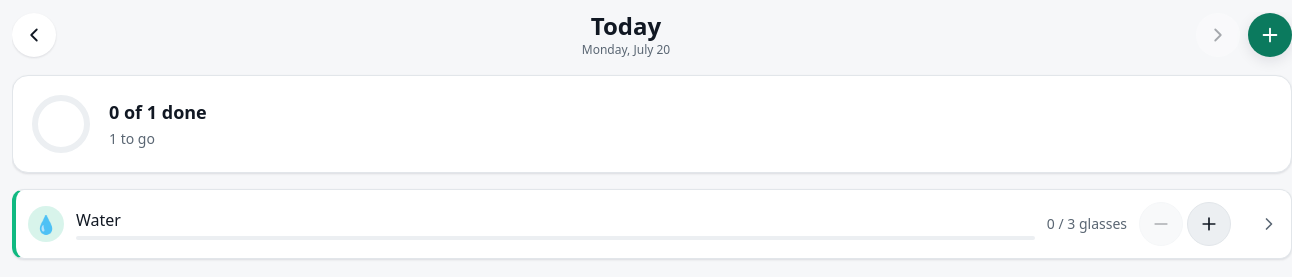
countable habits › stepper increments past the target and decrements, persisted to Dexie
Expected: the text "0 / 3 glasses" is shown, [1047, 213, 1127, 234]
Click the button named "increase water".
click(1209, 224)  # box [1187, 202, 1231, 246]
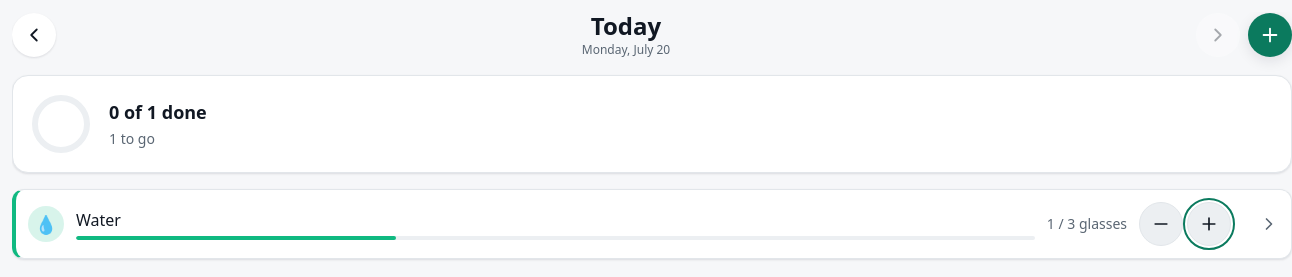
Click the button named "increase water".
click(1209, 224)  # box [1187, 202, 1231, 246]
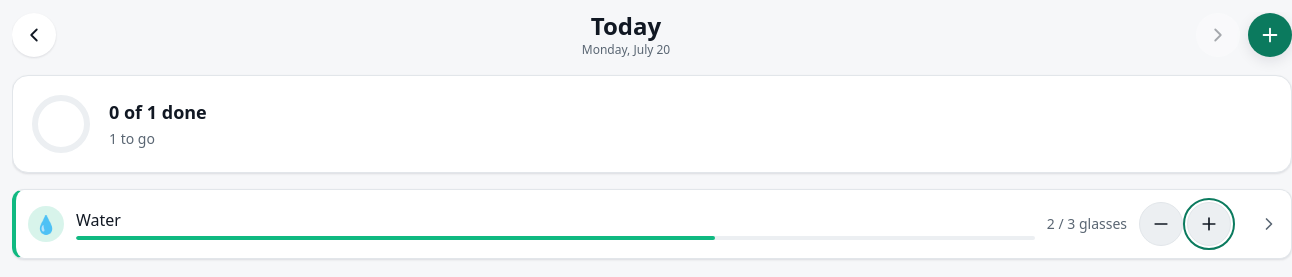
Click the button named "increase water".
click(1209, 224)  # box [1187, 202, 1231, 246]
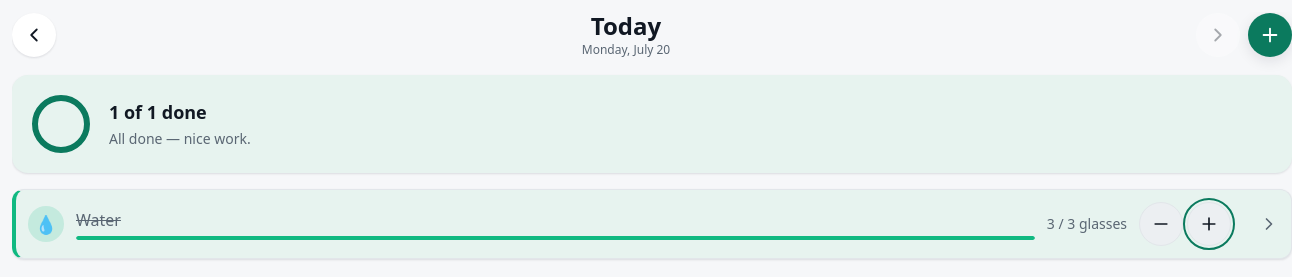
Click the button named "increase water".
click(1209, 224)  # box [1187, 202, 1231, 246]
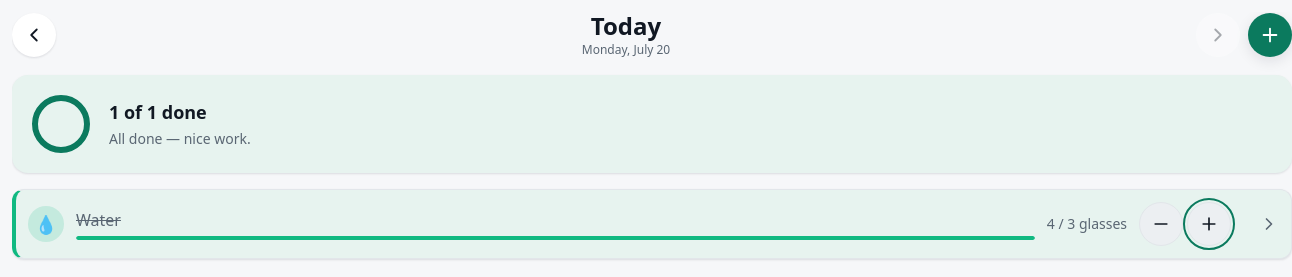
Now the text "4 / 3 glasses" is shown, box [1047, 213, 1127, 234]
Click the button named "decrease water".
click(1161, 224)  # box [1139, 202, 1183, 246]
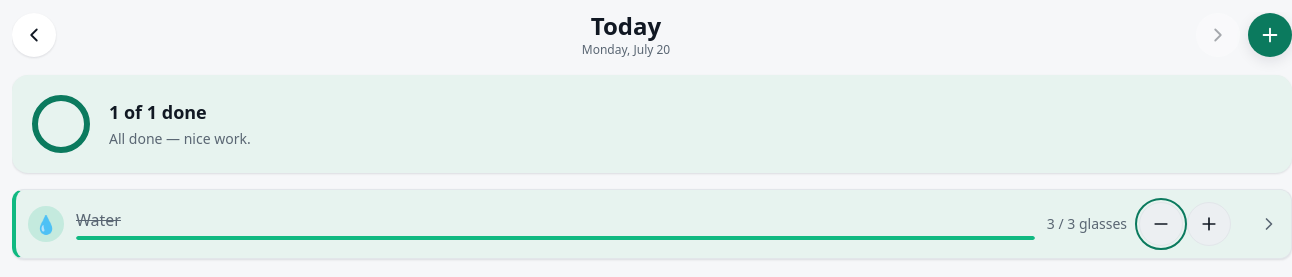
Now the text "3 / 3 glasses" is shown, box [1047, 213, 1127, 234]
